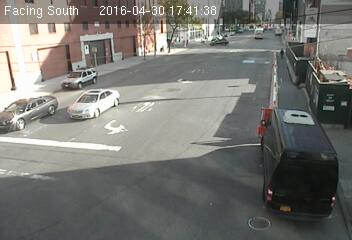neg: (93, 60, 110, 83), (214, 37, 225, 53), (214, 65, 225, 80), (135, 83, 142, 93)
